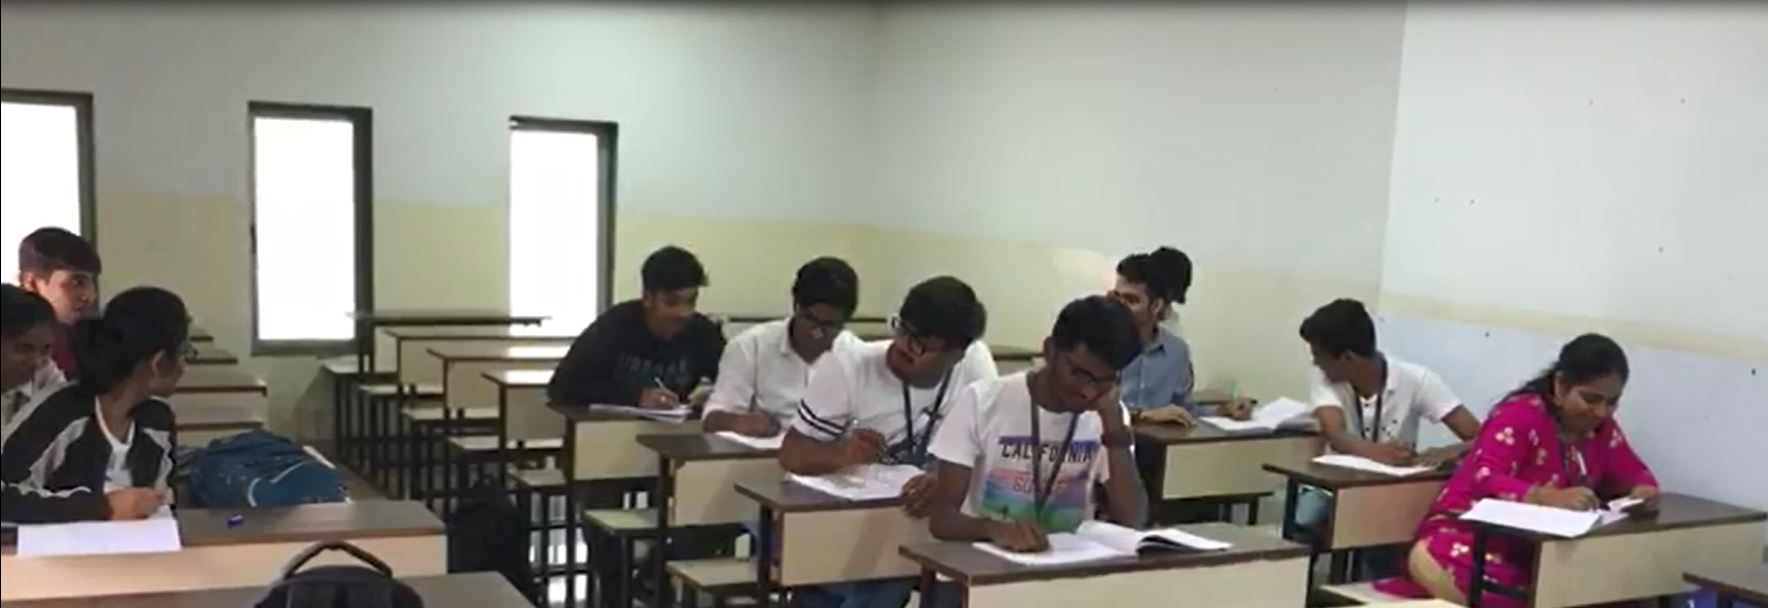student: (1441, 340, 1688, 554), (980, 298, 1164, 542), (560, 229, 765, 438), (750, 225, 874, 434)
studentcopying: (801, 272, 1042, 487), (90, 281, 248, 531), (1280, 275, 1443, 493), (1083, 250, 1209, 383), (18, 223, 133, 362), (1, 288, 85, 409)
